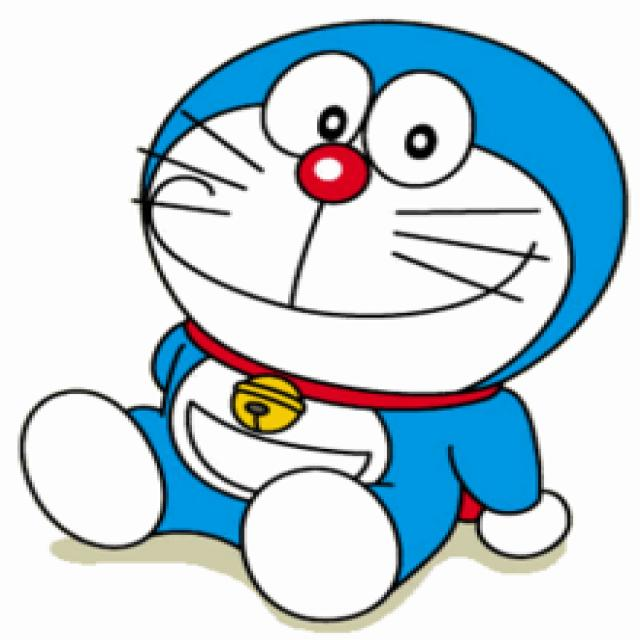Ameng: (62, 11, 640, 409)
